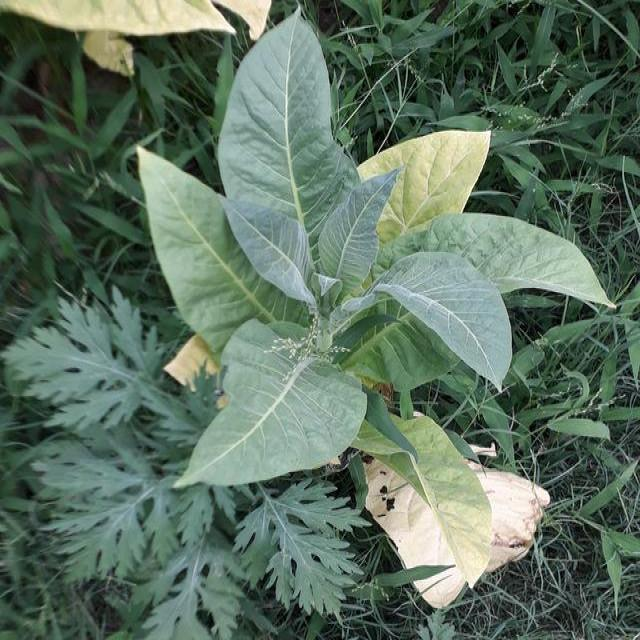crop: (147, 39, 596, 603)
